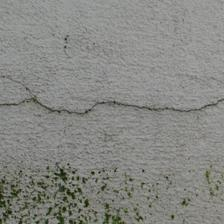Crack: (5, 94, 224, 120)
